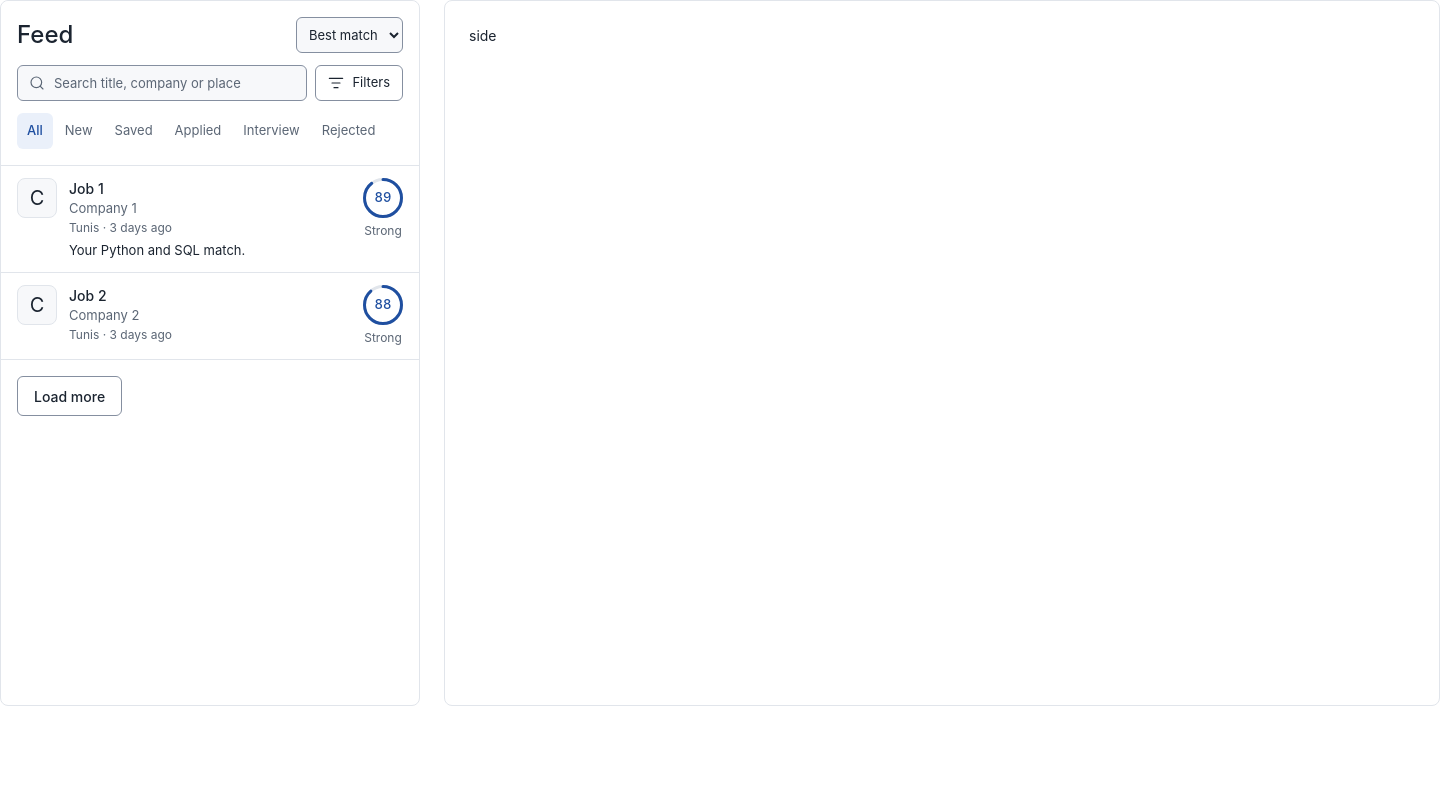
Test: feed list › keeps the loaded rows when a later page fails
The image size is (1440, 810).
Click the button "Load more".
click(70, 396)  # box x1=17 y1=376 x2=122 y2=416
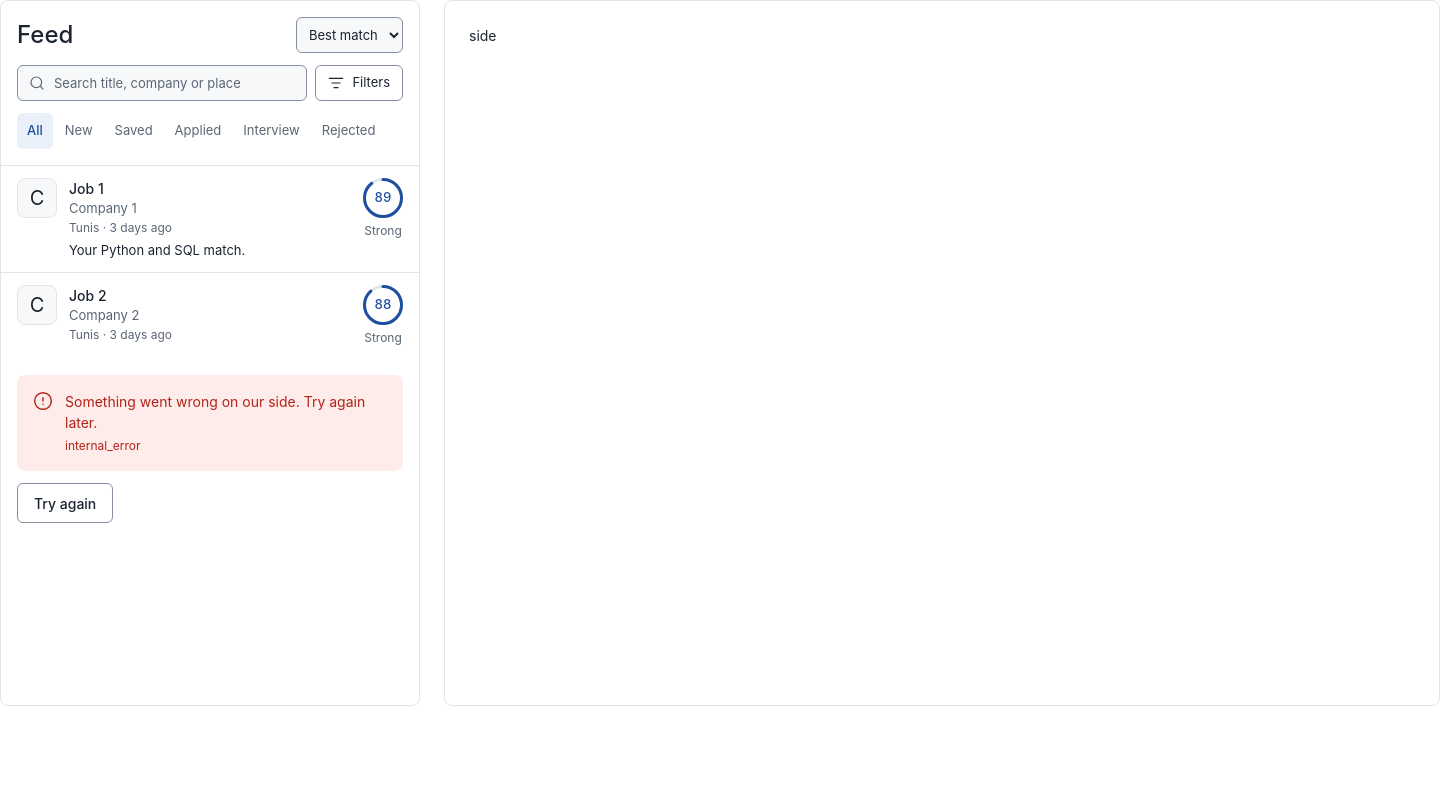
Expected: the text "Job 2" is shown, x1=69 y1=287 x2=106 y2=304
Expected: the message "Something went wrong on our side. Try again later. internal_error" is shown, x1=17 y1=375 x2=403 y2=471
